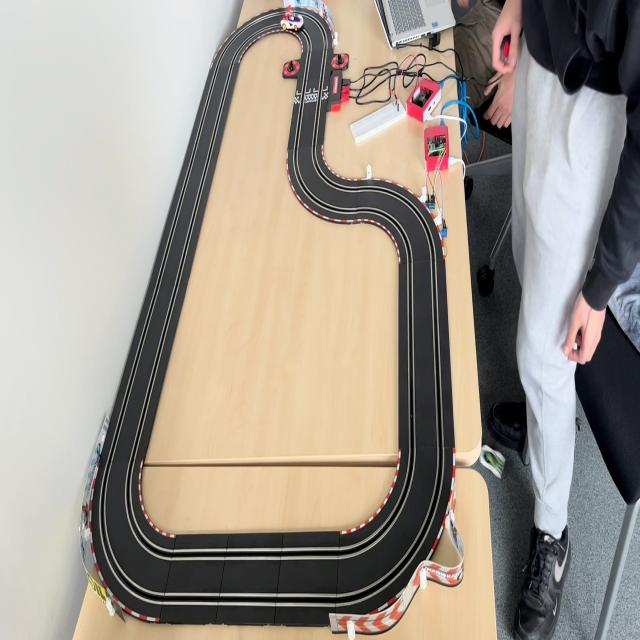mario: (280, 15, 305, 32)
yoshi: (478, 445, 508, 481)
